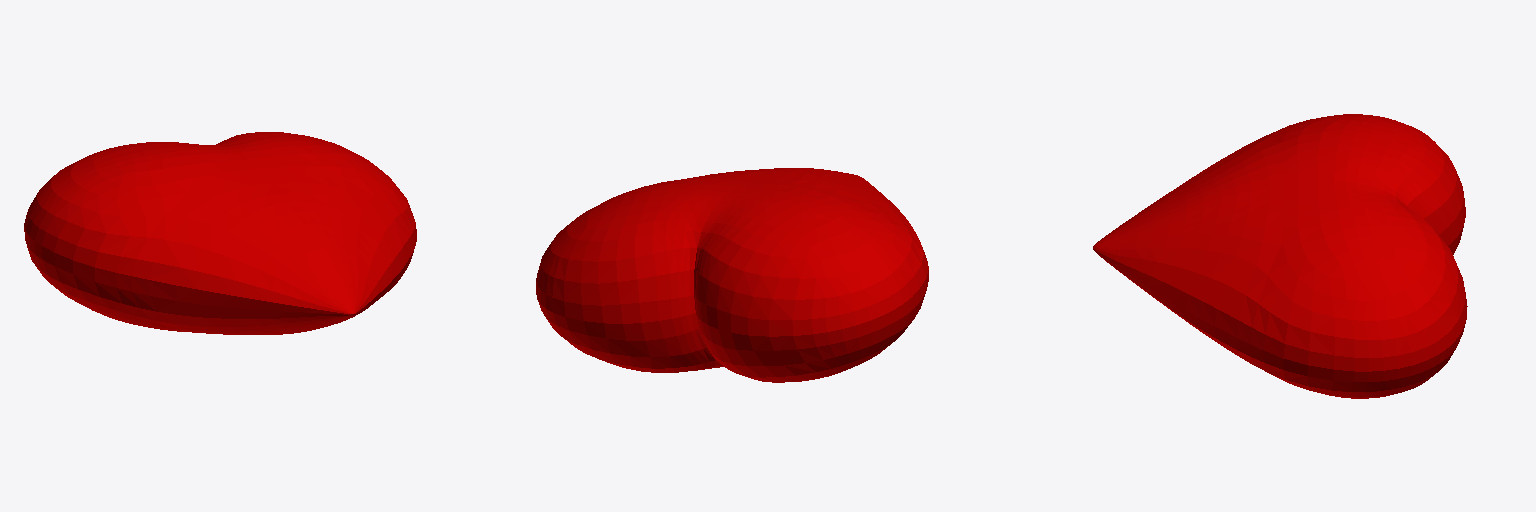
File: heart.obj
3 views of the same model, side by side, from view 1: azimuth 30°, elevation 25°; view 2: azimuth 150°, elevation 25°; view 3: azimuth 270°, elevation 25° (orthographic).
Parts seen in each view (by area): view 1: node_id113_mesh_id114; view 2: node_id113_mesh_id114; view 3: node_id113_mesh_id114.
Part boxes in pixels (bbox=[...]): node_id113_mesh_id114: bbox=[24, 132, 416, 334]; node_id113_mesh_id114: bbox=[536, 168, 928, 382]; node_id113_mesh_id114: bbox=[1093, 114, 1467, 398].
Bounding box in the file's own units: 0.4271 × 0.206 × 0.3884.